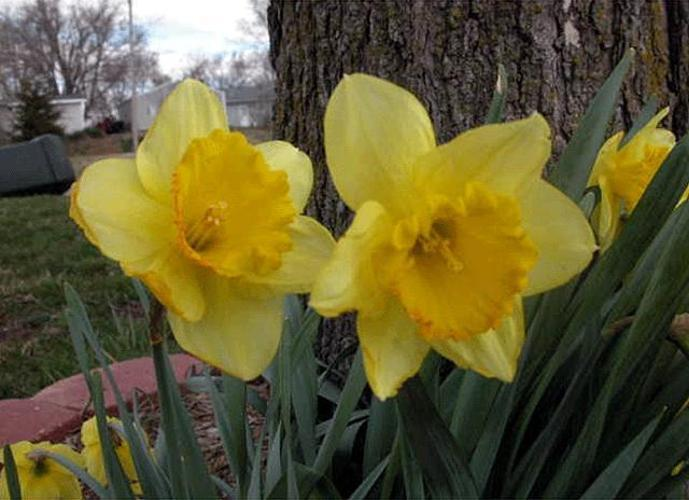flower1: (66, 70, 612, 401)
